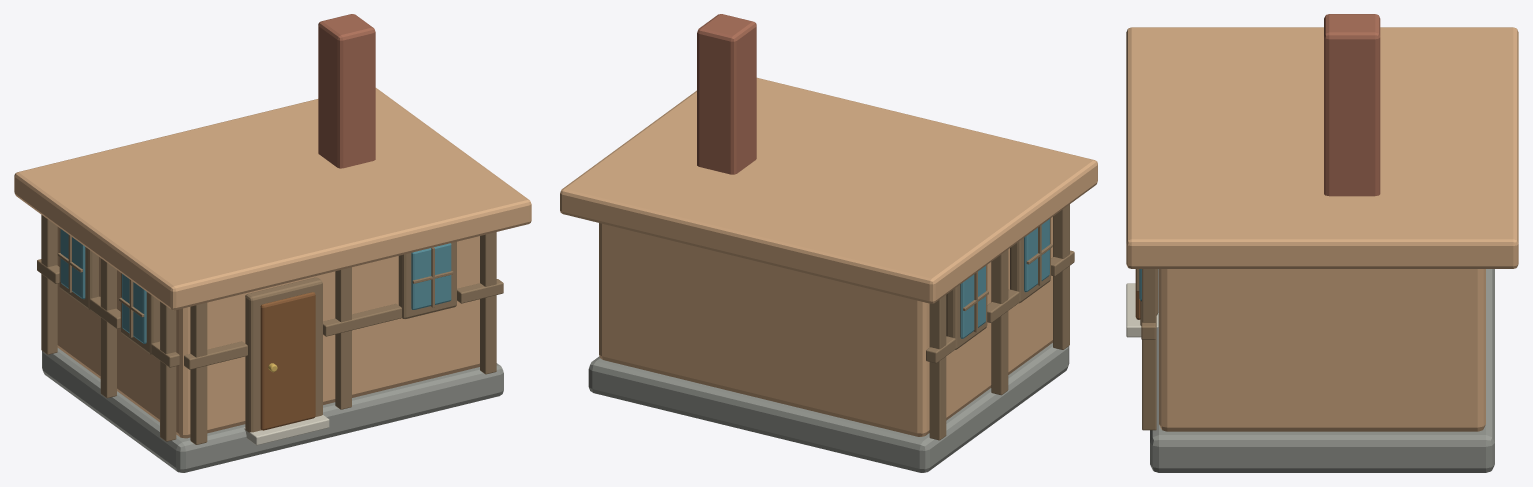
Rendered from arid-cottage-0.glb.
3 renders of one model, left to right at view 1: azimuth 30°, elevation 25°; view 2: azimuth 150°, elevation 25°; view 3: azimuth 270°, elevation 25°, orthographic. The views are drawn at different scales.
Parts seen in each view (by area): view 1: Adobe cream, Adobe plaster, Palm beams, Foundation stone, Chimney brick, Door oak, Blue glass, Cut limestone; view 2: Adobe cream, Adobe plaster, Foundation stone, Palm beams, Chimney brick, Blue glass; view 3: Adobe cream, Adobe plaster, Foundation stone, Chimney brick, Palm beams, Cut limestone.
Boxes of the visible parts, bbox=[...] form: Adobe cream: bbox=[14, 88, 531, 310]; Adobe plaster: bbox=[57, 227, 479, 438]; Palm beams: bbox=[37, 215, 503, 444]; Foundation stone: bbox=[42, 348, 503, 472]; Chimney brick: bbox=[318, 14, 375, 168]; Door oak: bbox=[260, 292, 315, 430]; Blue glass: bbox=[60, 229, 451, 343]; Cut limestone: bbox=[244, 415, 329, 445]; Adobe cream: bbox=[560, 77, 1097, 303]; Adobe plaster: bbox=[599, 217, 1052, 436]; Foundation stone: bbox=[588, 343, 1069, 472]; Palm beams: bbox=[926, 204, 1074, 440]; Chimney brick: bbox=[697, 14, 756, 174]; Blue glass: bbox=[960, 219, 1049, 338]; Adobe cream: bbox=[1126, 27, 1518, 268]; Adobe plaster: bbox=[1159, 269, 1485, 431]; Foundation stone: bbox=[1150, 269, 1494, 472]; Chimney brick: bbox=[1324, 14, 1380, 196]; Palm beams: bbox=[1136, 269, 1158, 430]; Cut limestone: bbox=[1126, 283, 1158, 337].
Size of the model in its own units: 3.44 by 3.02 by 2.64.
